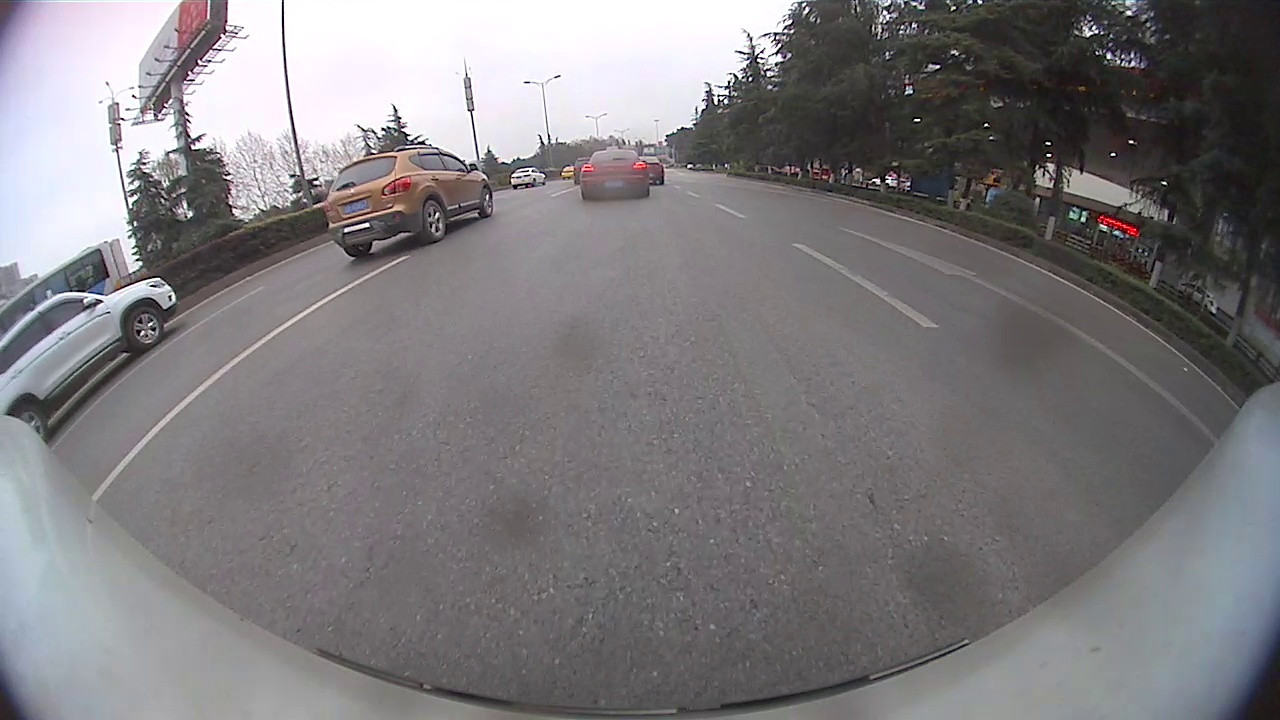car: (1, 275, 182, 443), (329, 142, 494, 258), (577, 150, 652, 200), (507, 164, 549, 190)
front: (124, 304, 165, 351), (478, 185, 495, 219)
rear: (12, 402, 52, 443), (417, 199, 449, 246)
